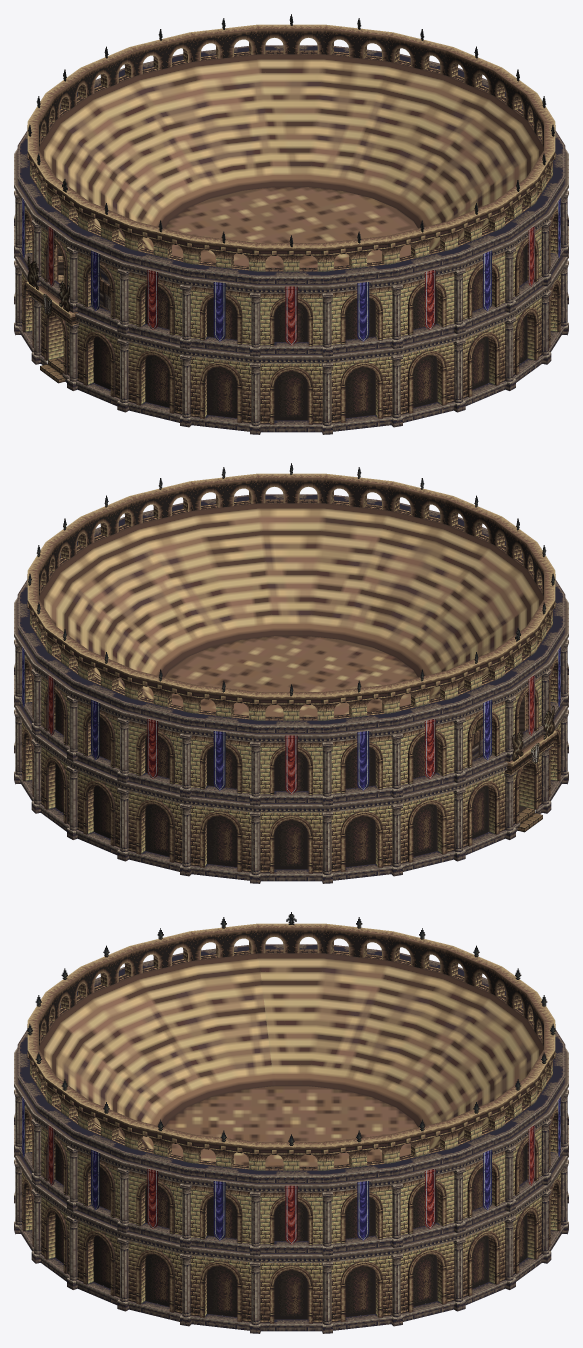
Rendered from ObjMD_Coliseum_A.FBX.
3 renders of one model, top to bottom at view 1: azimuth 30°, elevation 25°; view 2: azimuth 150°, elevation 25°; view 3: azimuth 270°, elevation 25°, orthographic.
Visible parts, largest first — view 1: ObjMD_Coliseum_A; view 2: ObjMD_Coliseum_A; view 3: ObjMD_Coliseum_A.
Boxes of the visible parts, x1,y1,x2,y2 form: ObjMD_Coliseum_A: (14,14,568,434); ObjMD_Coliseum_A: (14,463,568,883); ObjMD_Coliseum_A: (14,912,568,1333).
Bounding box in the file's own units: 3084 × 1175 × 3050.
